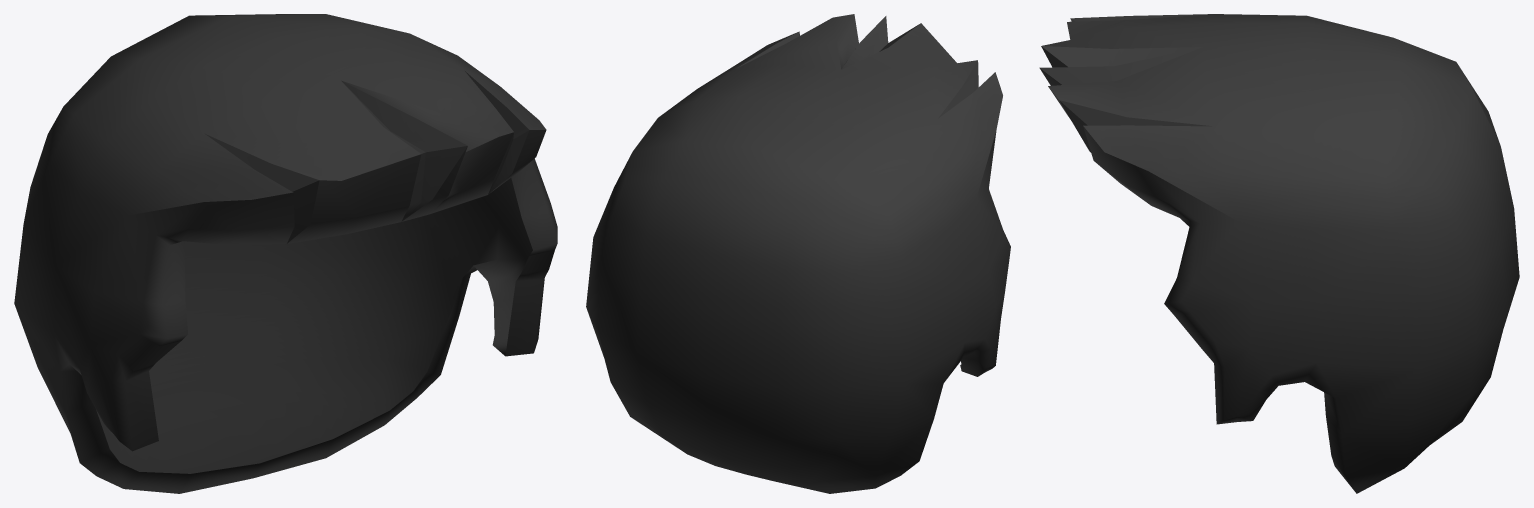
File: Hair_13.fbx
3 renders of one model, left to right at view 1: azimuth 30°, elevation 25°; view 2: azimuth 150°, elevation 25°; view 3: azimuth 270°, elevation 25°, orthographic. The views are drawn at different scales.
Parts seen in each view (by area): view 1: Hair_13; view 2: Hair_13; view 3: Hair_13.
Boxes of the visible parts, x1,y1,x2,y2 form: Hair_13: (14,14,557,493); Hair_13: (586,14,1010,493); Hair_13: (1039,14,1519,493).
Size of the model in its own units: 52.84 by 51.99 by 55.23.
